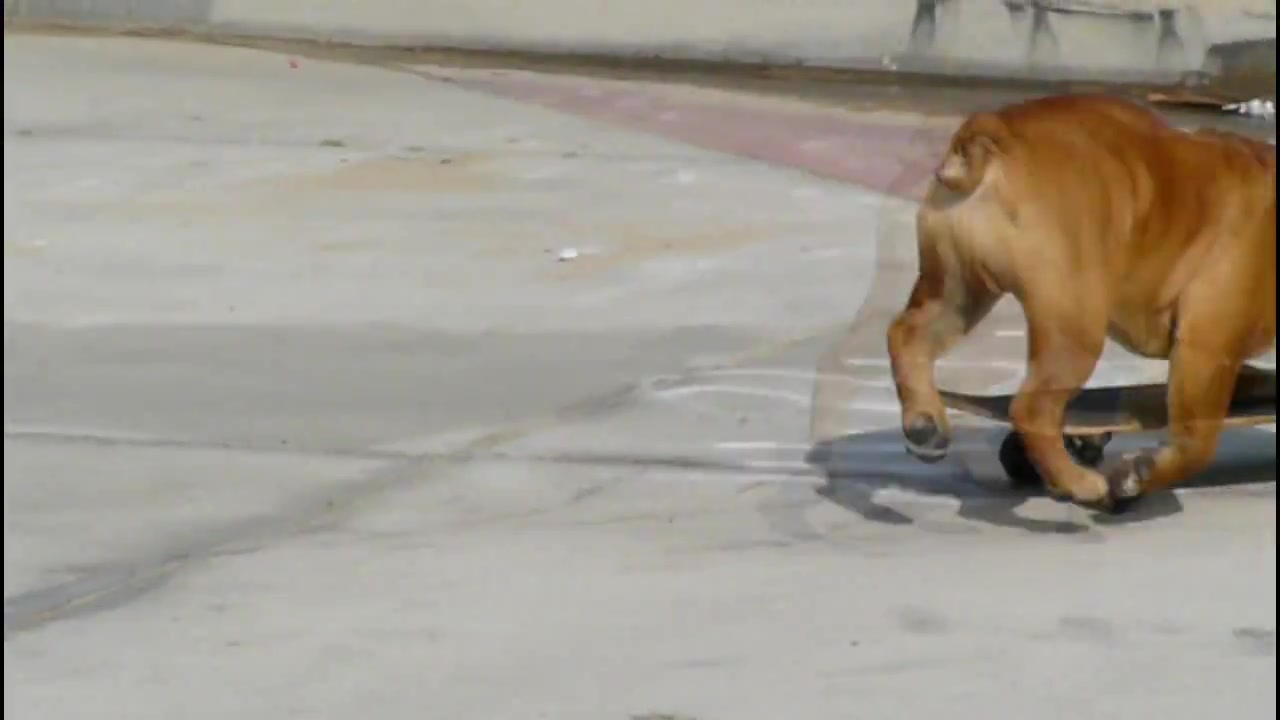dog: (884, 100, 1279, 503)
